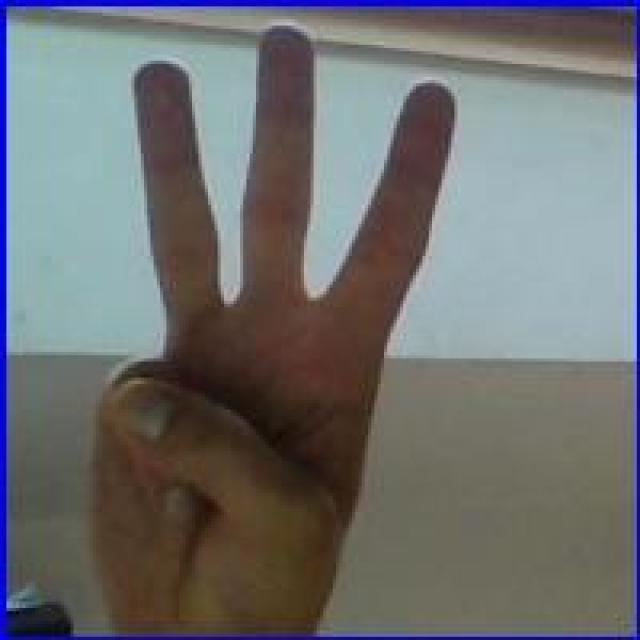W: (64, 27, 461, 635)
